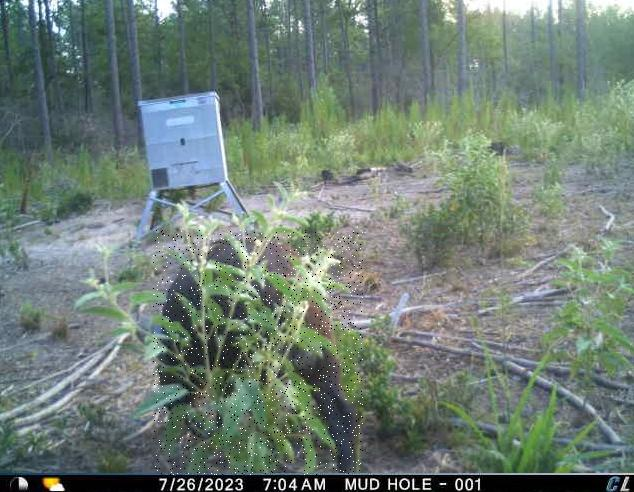Hog: (153, 230, 363, 475)
